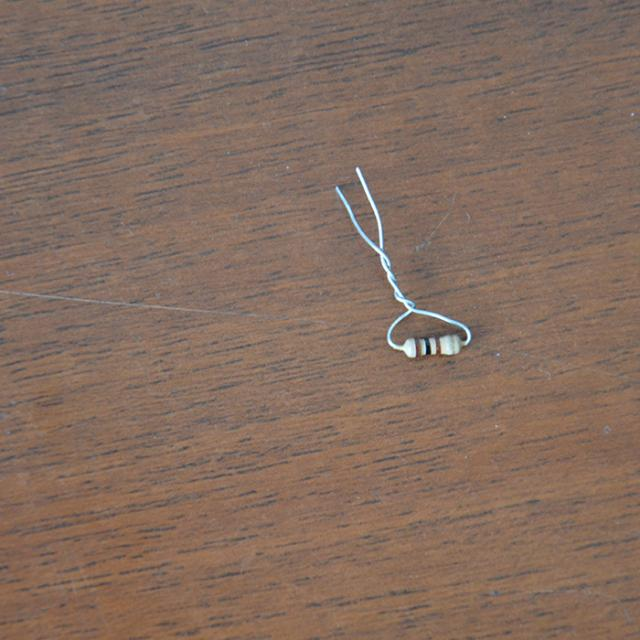black: (426, 339, 430, 355)
brown: (435, 338, 442, 353), (415, 340, 421, 356)
gold: (451, 336, 455, 354)
resistor: (401, 332, 472, 366)
